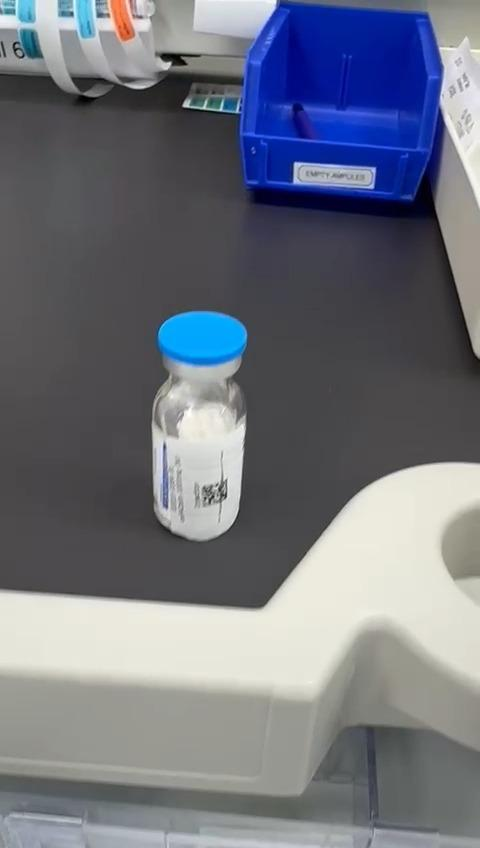cefazolin: (152, 311, 247, 541)
